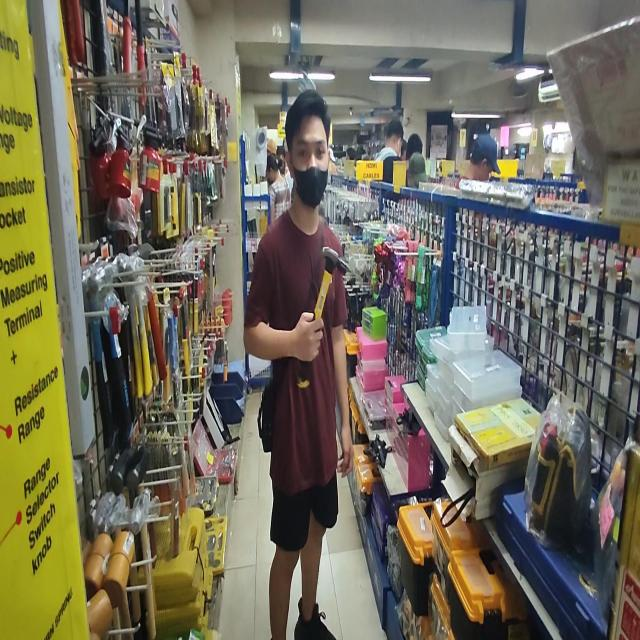hammer: (297, 246, 348, 388)
